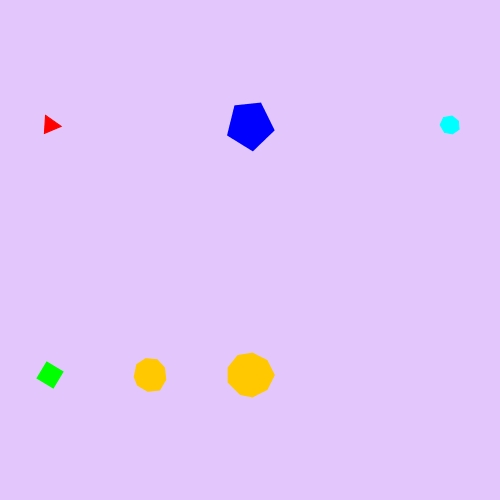heptagon: (436, 111, 465, 139)
nonagon: (223, 349, 277, 401), (129, 355, 172, 396)
pentagon: (223, 98, 277, 152)
quadrilateral: (32, 357, 68, 393)
triangle: (37, 112, 63, 139)
